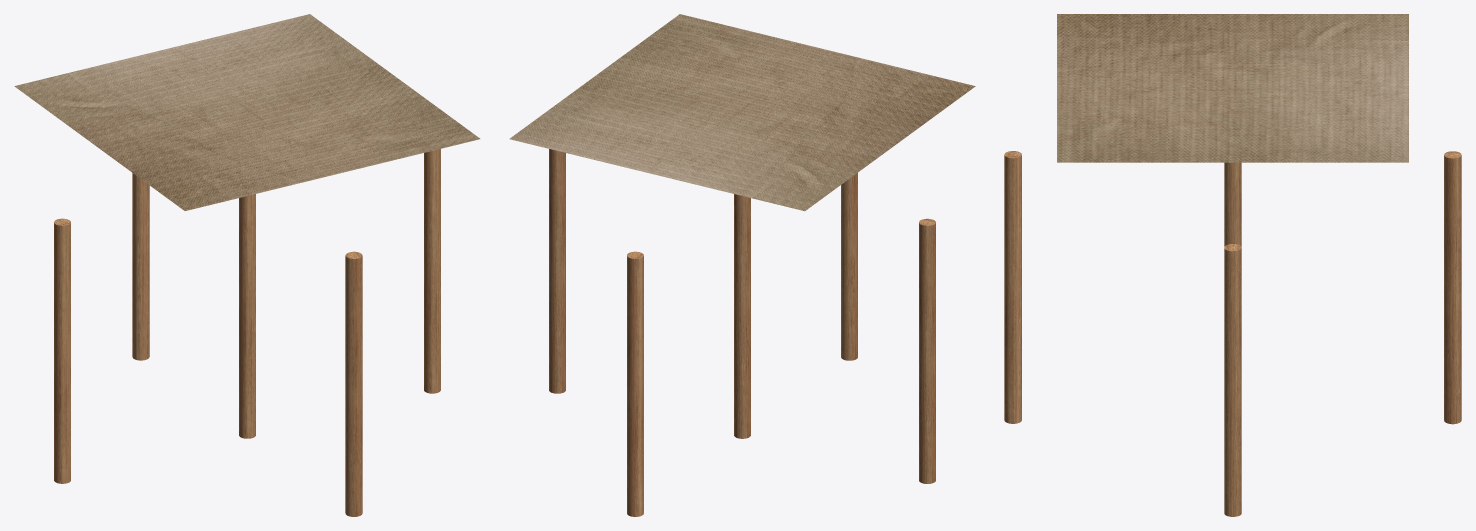
The model's file is Tent_1.0.fbx.
3 renders of one model, left to right at view 1: azimuth 30°, elevation 25°; view 2: azimuth 150°, elevation 25°; view 3: azimuth 270°, elevation 25°, orthographic. The views are drawn at different scales.
Visible parts, largest first — view 1: Tent, Poles; view 2: Tent, Poles; view 3: Tent, Poles.
Boxes of the visible parts, x1,y1,x2,y2 form: Tent: [14, 14, 480, 210]; Poles: [54, 149, 440, 516]; Tent: [509, 14, 975, 211]; Poles: [549, 149, 935, 516]; Tent: [1057, 14, 1408, 162]; Poles: [1004, 151, 1461, 516].
Bounding box in the file's own units: 156 × 125 × 156.
Materials: 2 (2 with a texture image).
